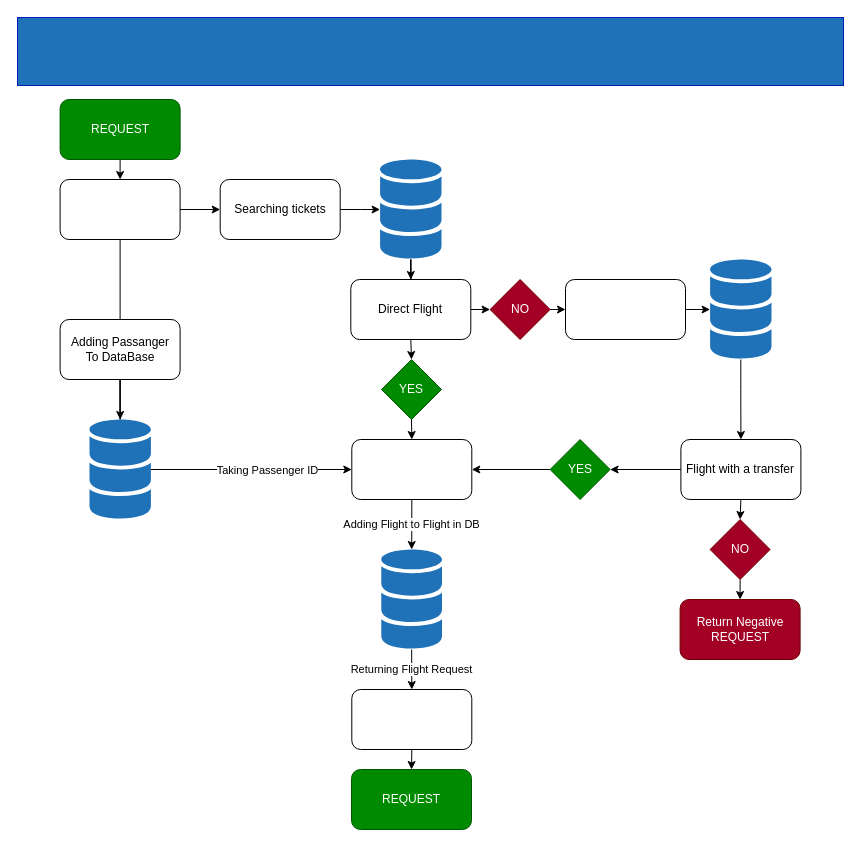
Some shapes in this 861 by 847 pixel diagram are drawn without their labels. Each missing label, with the centre of its shape:
DeSerialization: point (119, 209)
Forming Ticket: point (411, 469)
Program Architecture: point (430, 51)
Searching Possible tickets: point (625, 309)
Serialization: point (411, 719)
